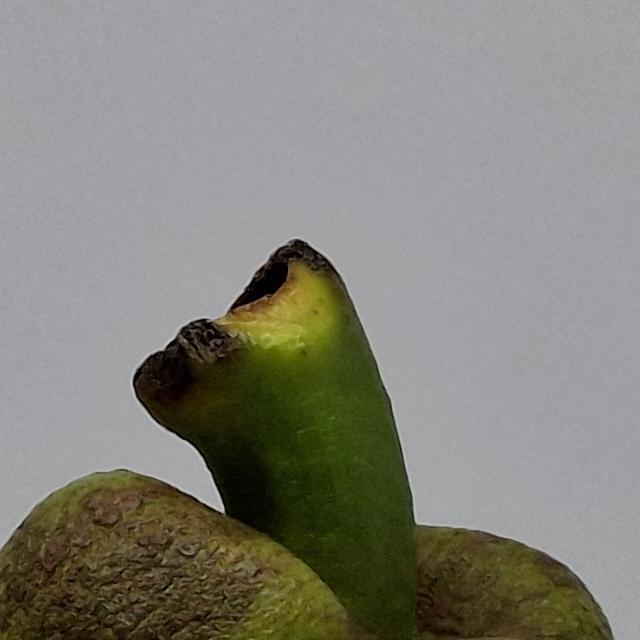mangosteen: (0, 195, 640, 640)
